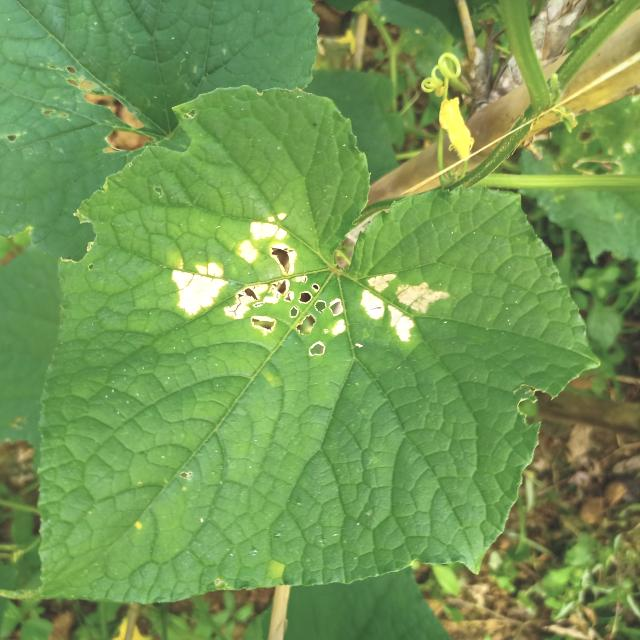disease_cucumber: (170, 205, 346, 360), (353, 257, 452, 347)
